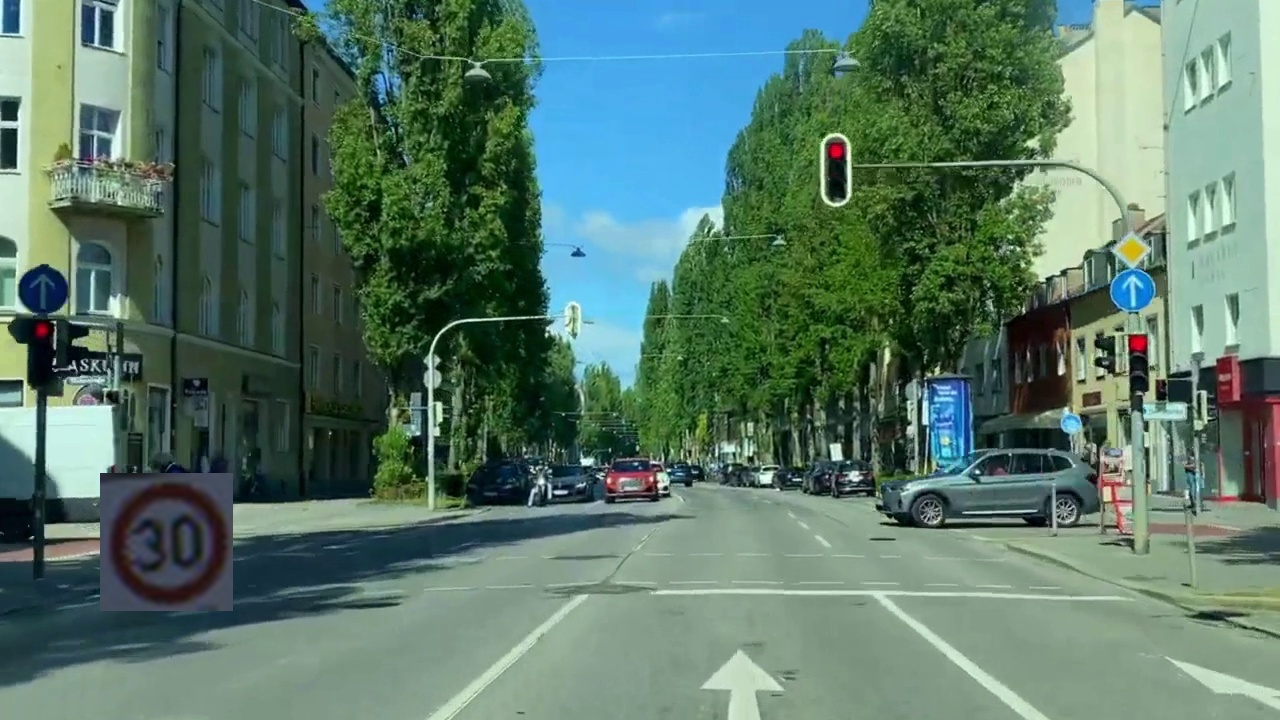Speed 30: (100, 473, 233, 611)
